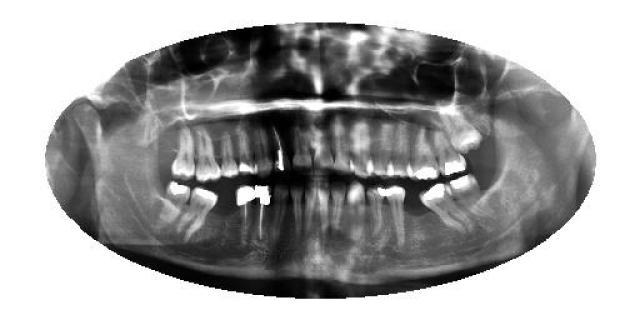Fillings: (420, 182, 468, 232), (446, 171, 490, 221), (180, 188, 216, 242), (432, 128, 467, 178), (409, 125, 440, 181), (160, 181, 190, 230), (385, 182, 407, 242), (364, 185, 386, 241), (236, 126, 259, 175)
Implant: (235, 184, 255, 246), (269, 120, 291, 172), (254, 186, 270, 244)
